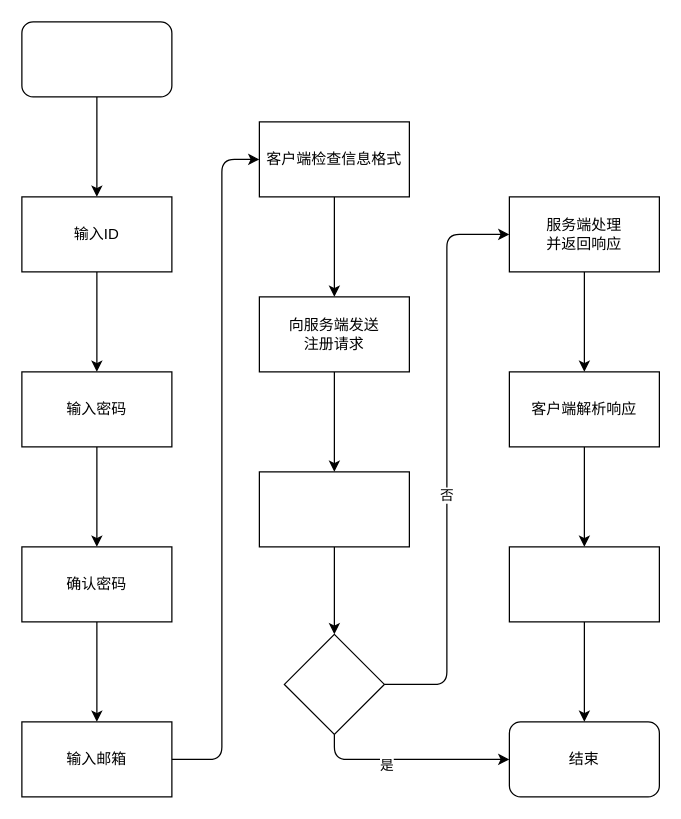
The diagram is 681 pixels wide and 819 high, and some of its shapes have lost their labels. The centre of each missing label's shape, as x and y in pixels:
ID已占用: point 333,683
客户端展示结果: point 583,584
开始: point 96,59
服务端解析数据: point 333,509
